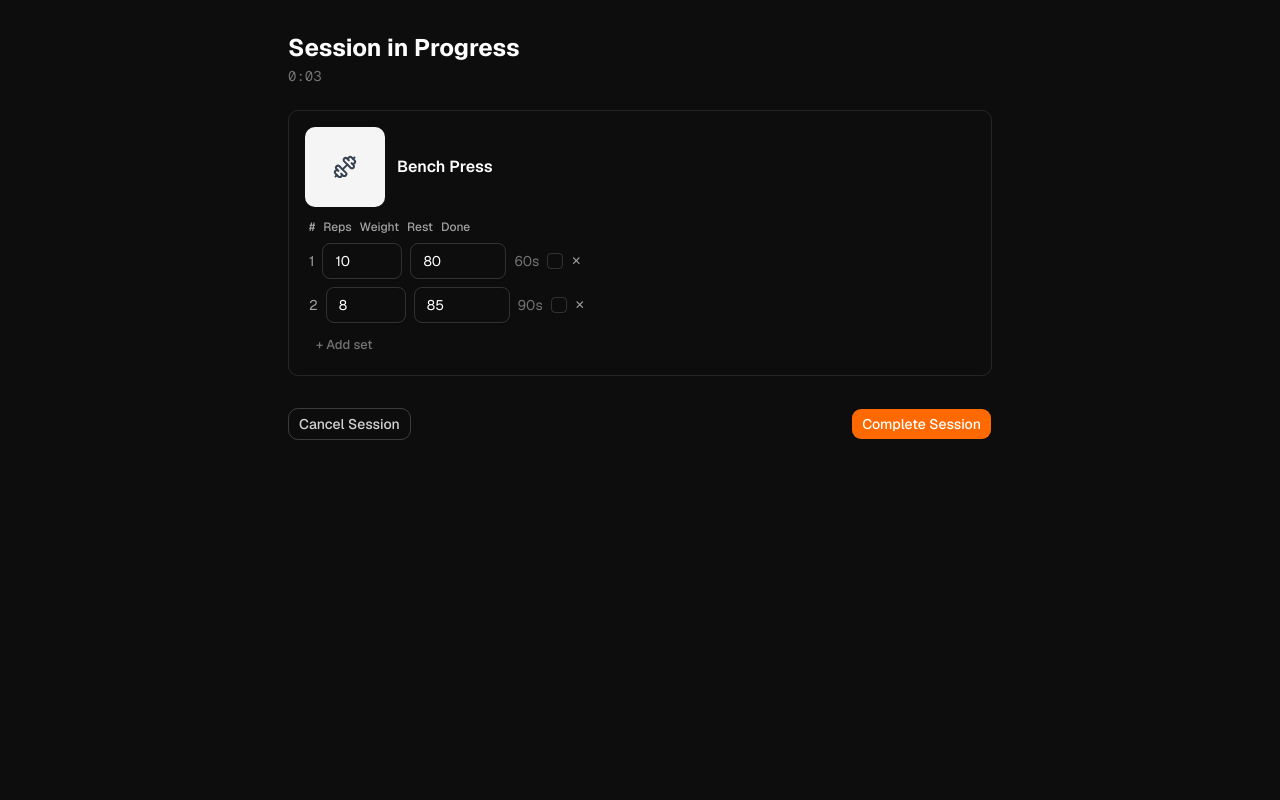
Test: WorkoutInProgressView — cancel session › clicking Cancel Session opens the confirmation modal
Step 1. Click the button "Cancel Session" → (349,424), box [288,408,411,440]
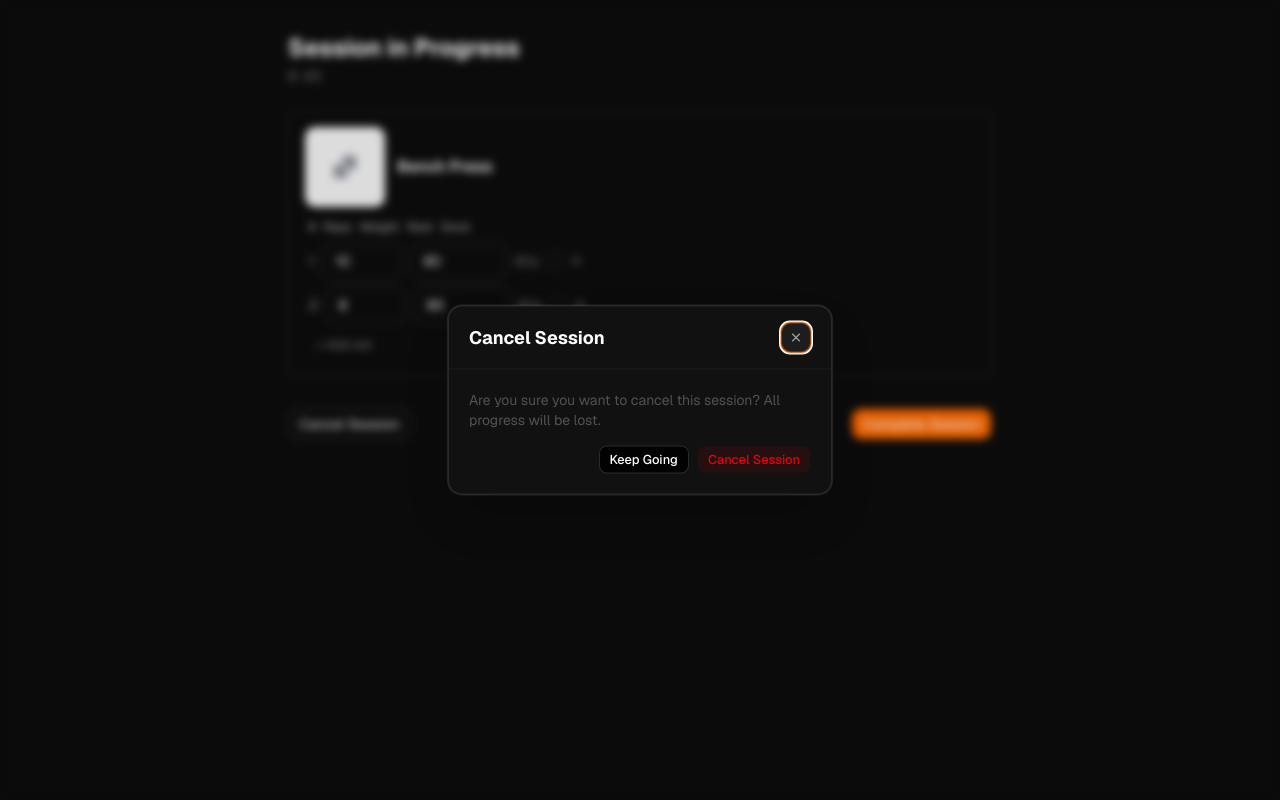
Expected: the dialog is shown, [448,306,832,494]
